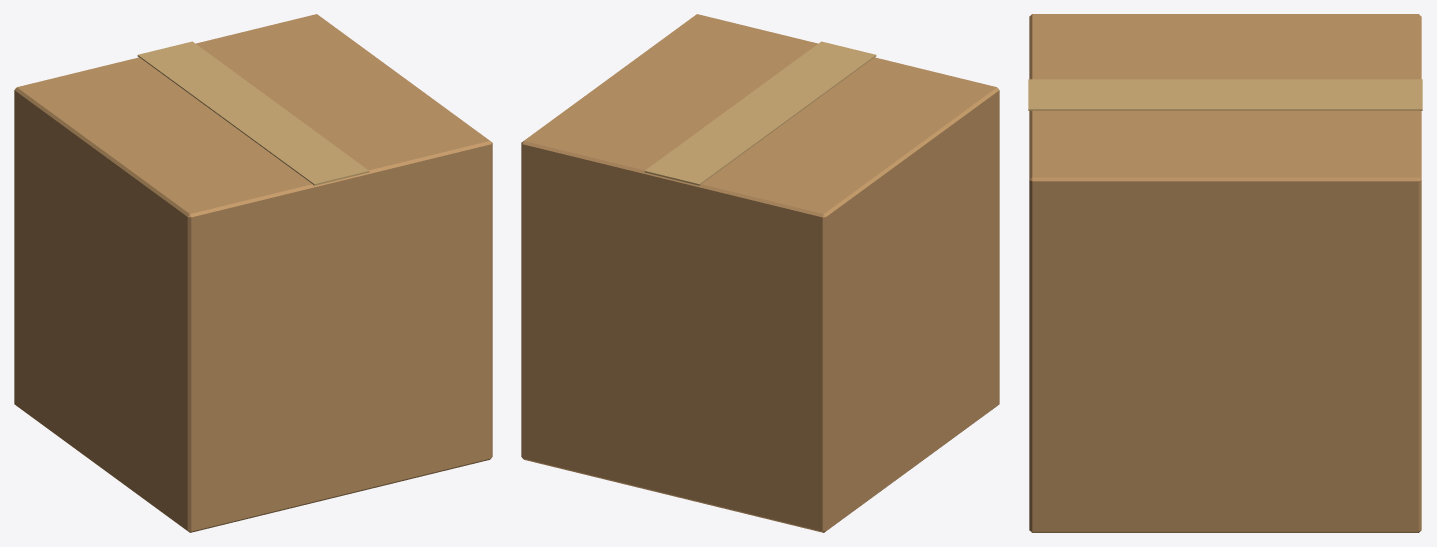
Rendered from sm_box_xl_closed.glb.
3 views of the same model, side by side, from view 1: azimuth 30°, elevation 25°; view 2: azimuth 150°, elevation 25°; view 3: azimuth 270°, elevation 25° (orthographic). The views are drawn at different scales.
Parts seen in each view (by area): view 1: box_xl_closed, box_xl_closed_tape; view 2: box_xl_closed, box_xl_closed_tape; view 3: box_xl_closed, box_xl_closed_tape.
Boxes of the visible parts, x1=… form: box_xl_closed: x1=14, y1=14, x2=492, y2=532; box_xl_closed_tape: x1=137, y1=41, x2=369, y2=185; box_xl_closed: x1=521, y1=14, x2=999, y2=532; box_xl_closed_tape: x1=644, y1=41, x2=876, y2=185; box_xl_closed: x1=1029, y1=14, x2=1421, y2=532; box_xl_closed_tape: x1=1028, y1=79, x2=1422, y2=110.
Size of what is drawn, in the model's own units: 0.8 by 0.803 by 0.804.
